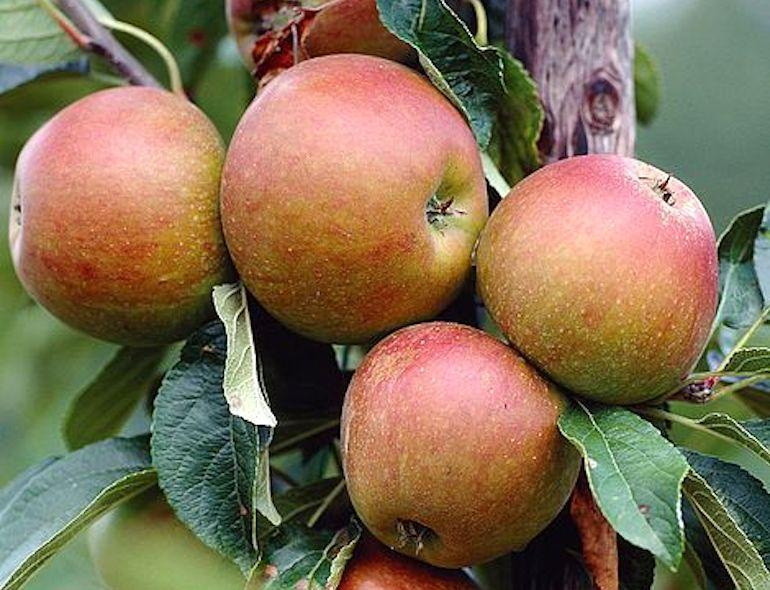apple: (220, 42, 490, 348), (477, 152, 726, 408), (6, 83, 241, 350), (340, 319, 582, 562)
